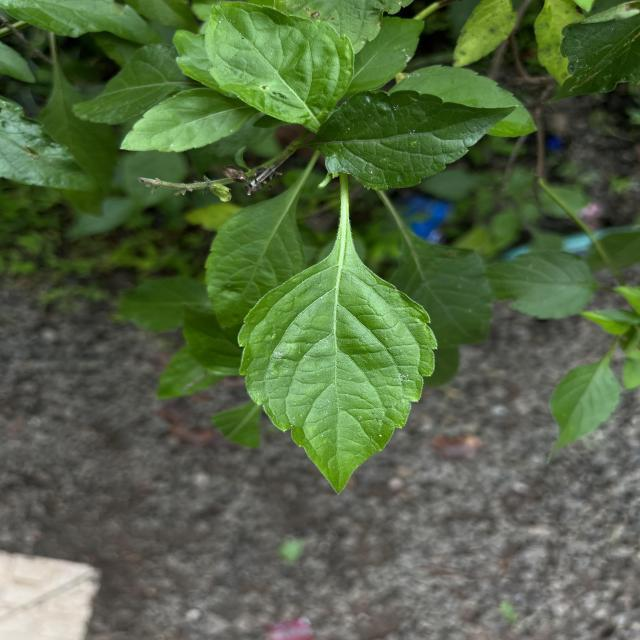Ocimum gratissimum: (231, 223, 442, 500), (309, 88, 521, 192), (200, 1, 364, 128)
